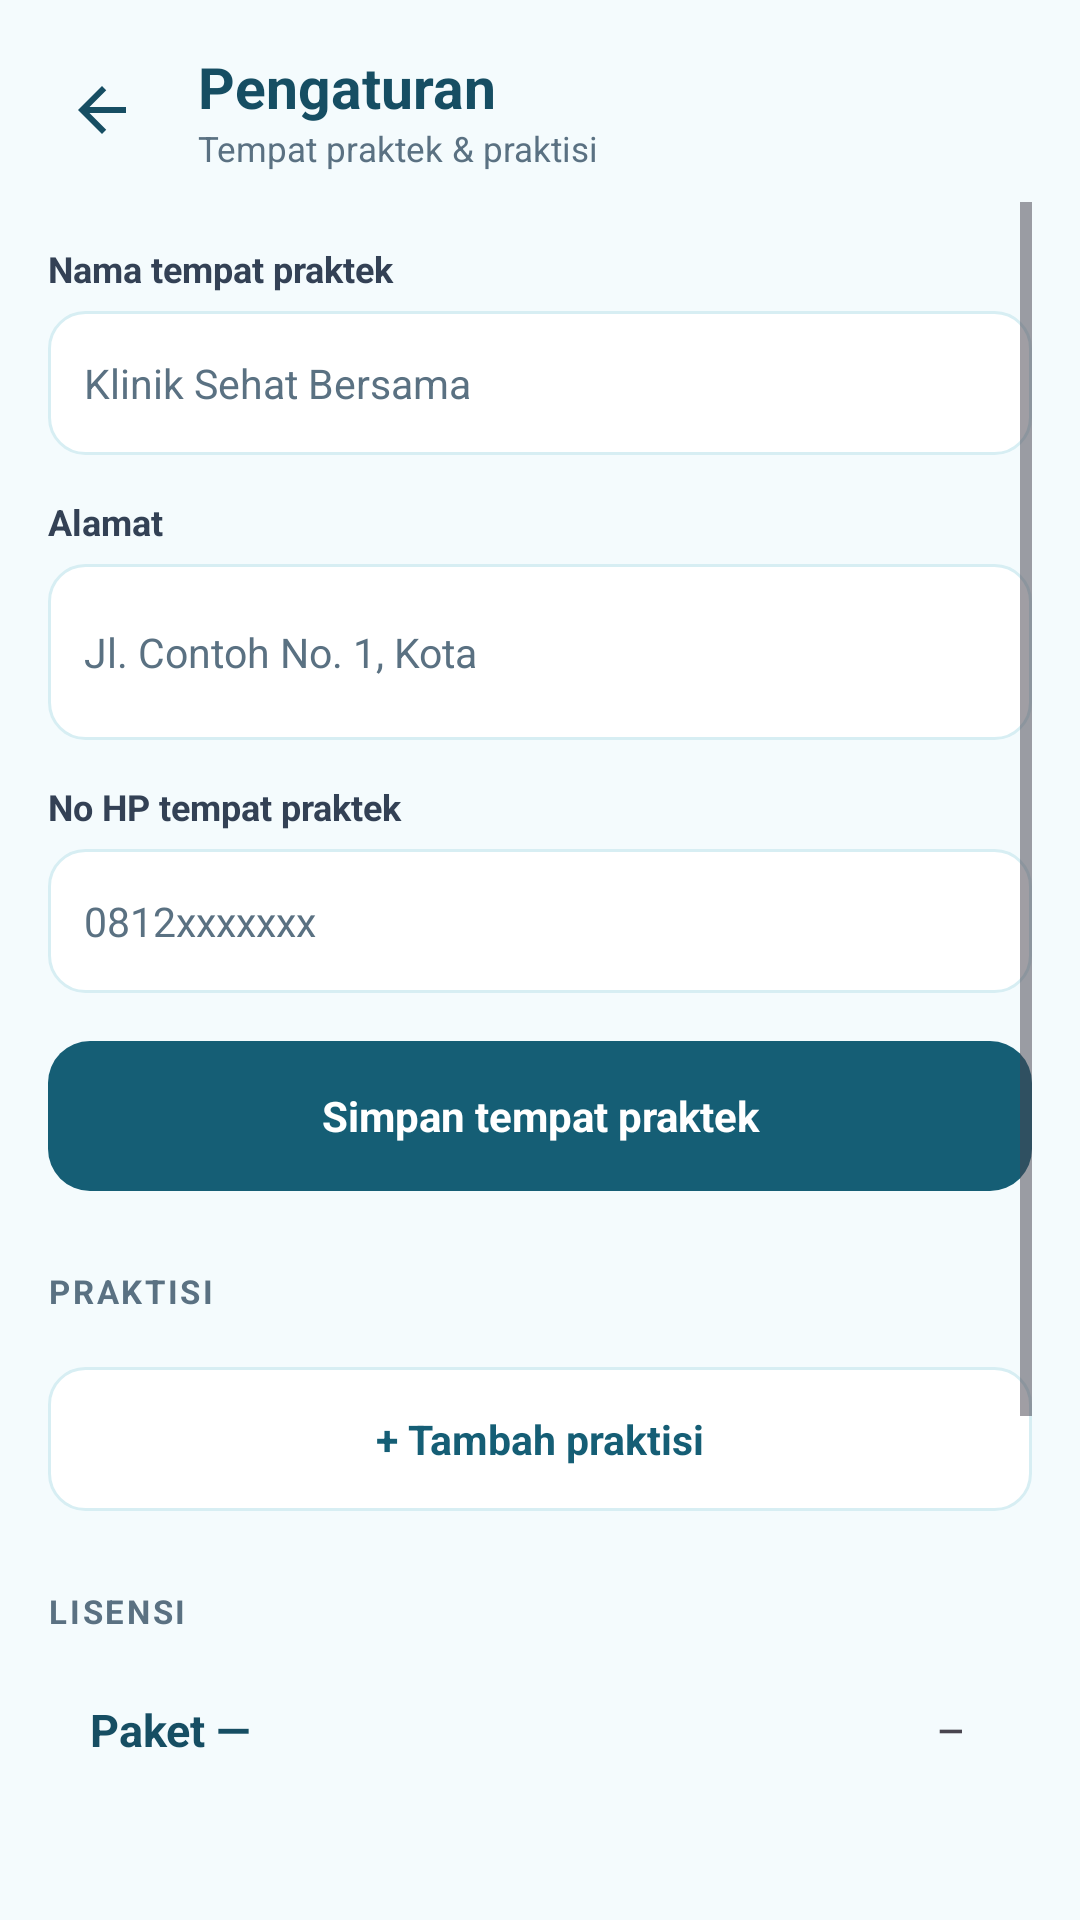

Screen size 1080x1920. Icon name, then its center in pixels as point (x, y):
Kembali: point (102, 110)
